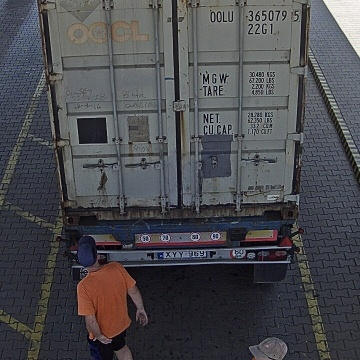serial_id: (210, 9, 300, 22)
